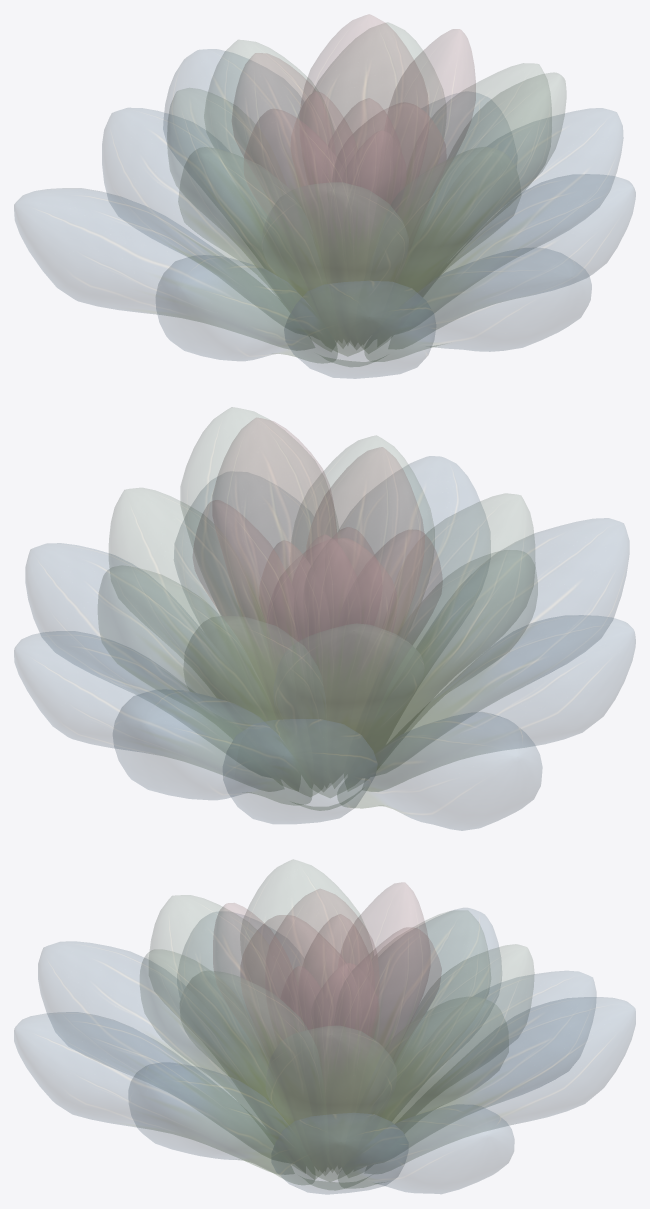
Rendered from 04-mature.glb.
3 renders of one model, top to bottom at view 1: azimuth 30°, elevation 25°; view 2: azimuth 150°, elevation 25°; view 3: azimuth 270°, elevation 25°, orthographic. The views are drawn at different scales.
Parts seen in each view (by area): view 1: 04-mature; view 2: 04-mature; view 3: 04-mature.
Boxes of the visible parts, left/top/right/bottom form: 04-mature: left=14, top=14, right=635, bottom=378; 04-mature: left=14, top=407, right=635, bottom=830; 04-mature: left=14, top=859, right=635, bottom=1194.
Size of the model in its own units: 0.4402 by 0.2456 by 0.4673.
3 materials, 3 textured.
